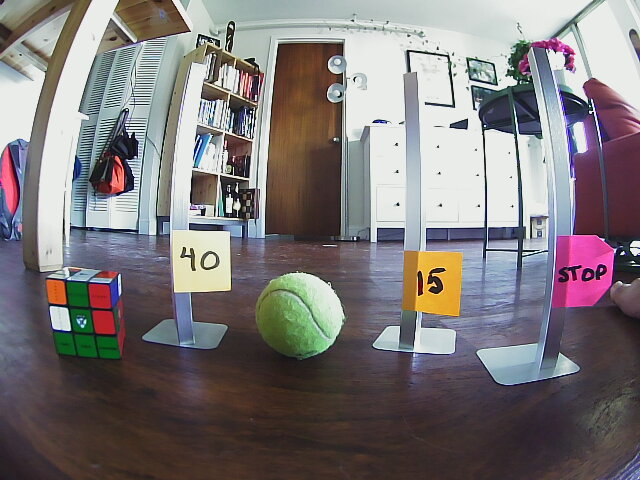15: (410, 254, 458, 310)
40: (172, 233, 227, 287)
ball: (255, 272, 347, 359)
cube: (44, 266, 130, 360)
stop: (559, 241, 612, 305)
